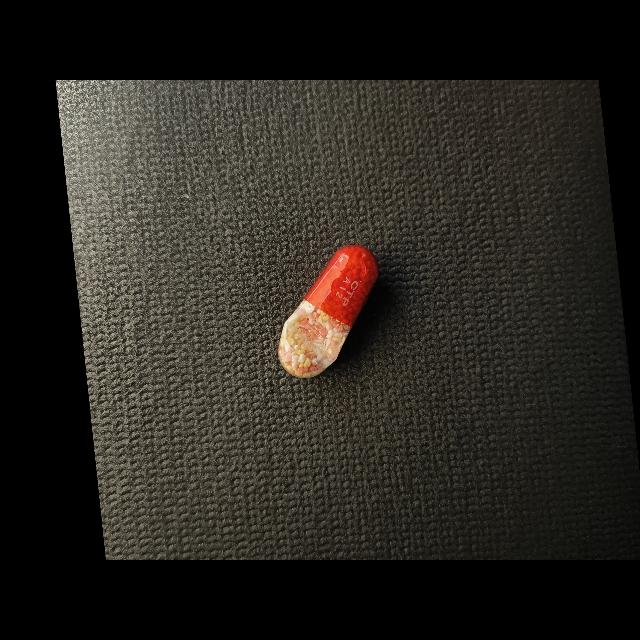Defective Capsule: (278, 245, 378, 378)
